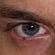eye: (22, 24, 39, 36)
